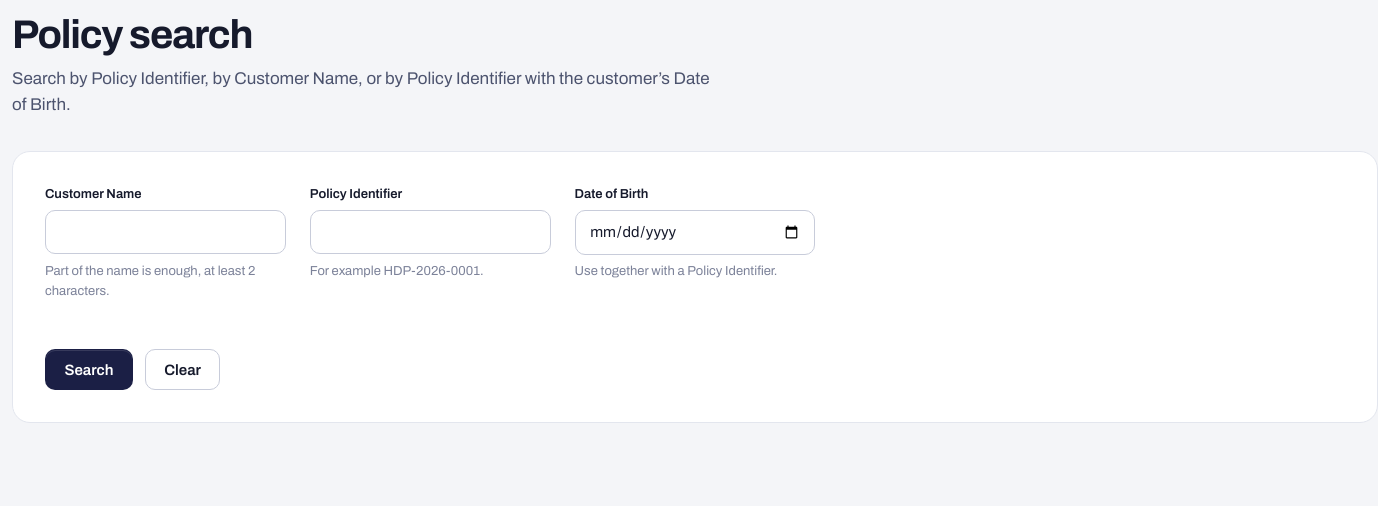
Test: PolicySearchPage › rejects a name with a date of birth
Type "Meera" into the field labelled "Customer Name".
click(165, 232); type("Meera")  # box [45,210,286,254]
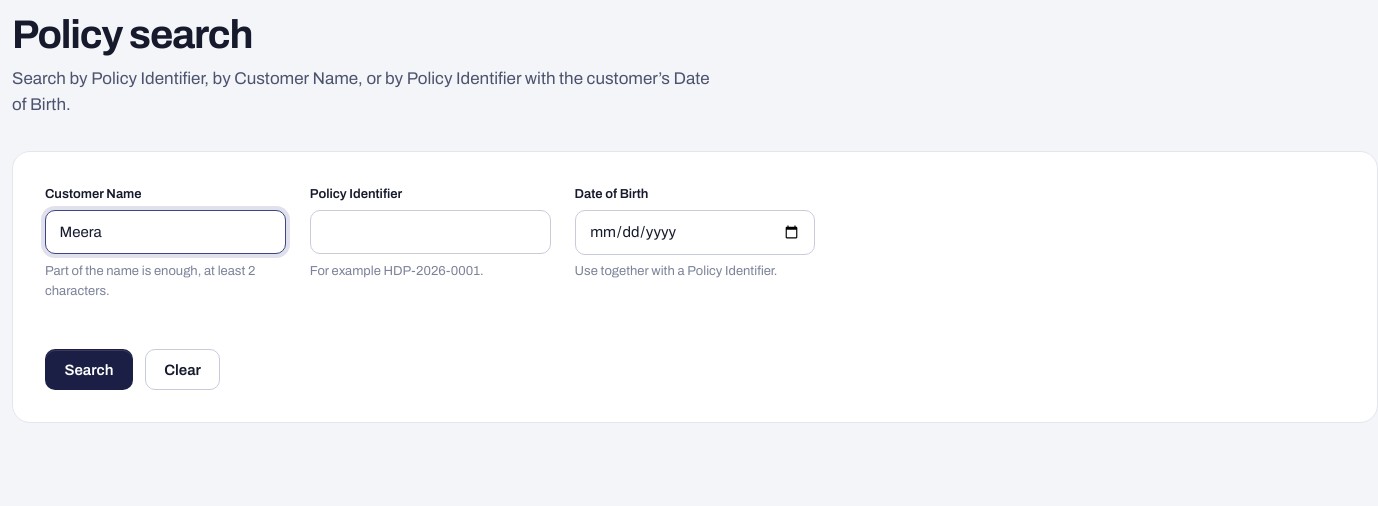
Type "1985-09-22" into the date field labelled "Date of Birth".
click(695, 233); type("1985-09-22")  # box [575,210,815,255]
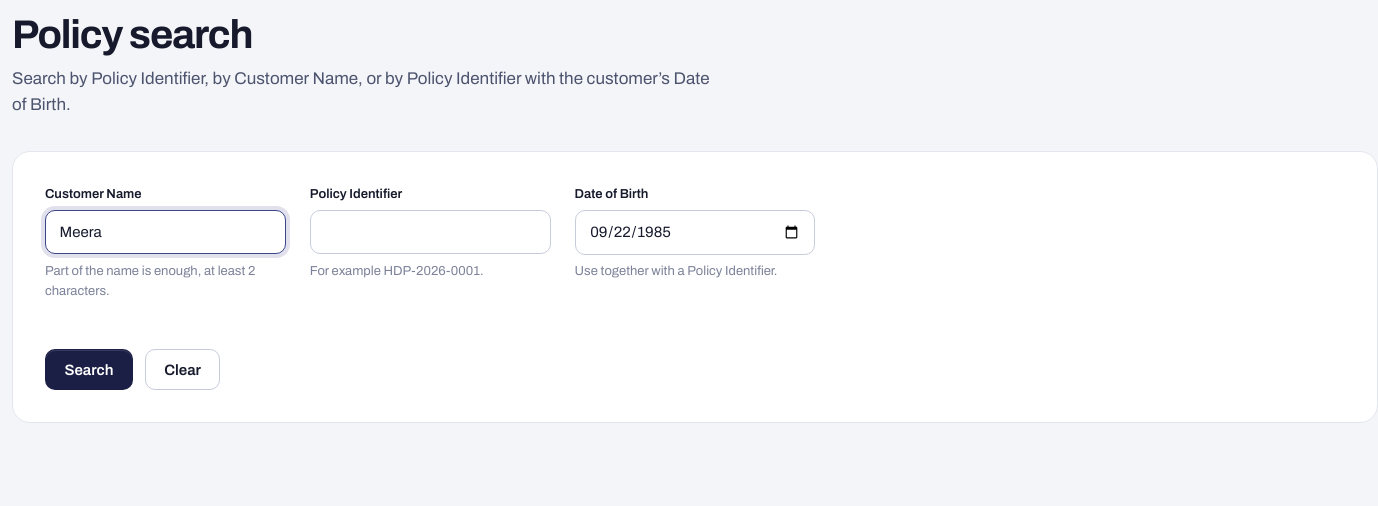
Click the button "Search".
click(89, 370)  # box [45,349,133,390]
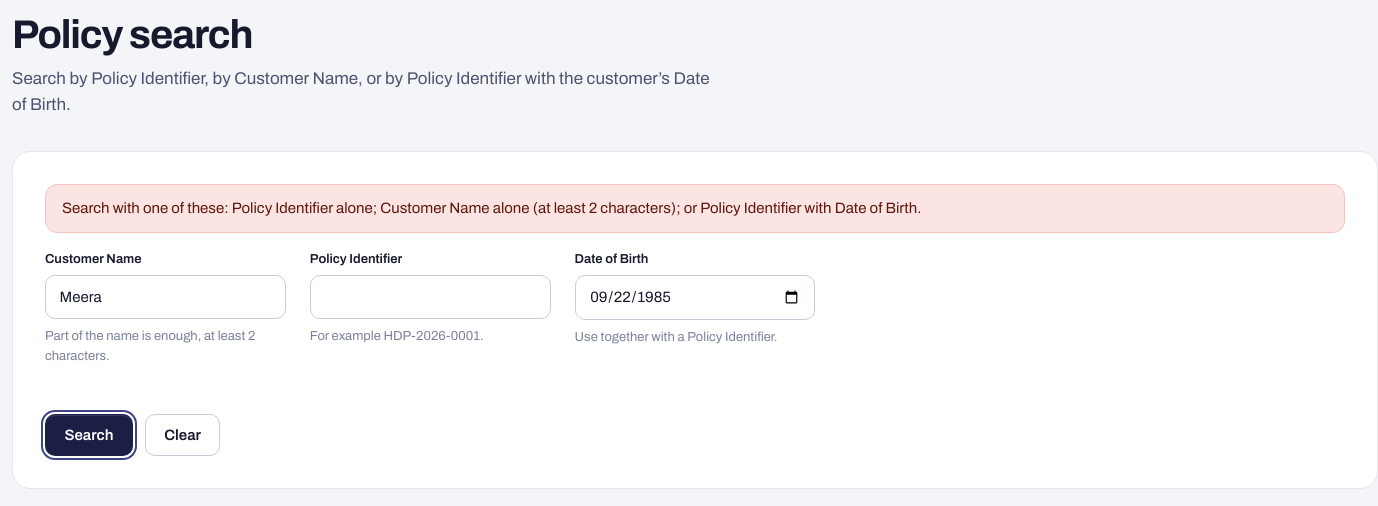
Result: the message shows "Search with one of these: Policy Identifier alone; Customer Name alone (at least 2 characters); or Policy Identifier with Date of Birth." at [62,200,921,216]
